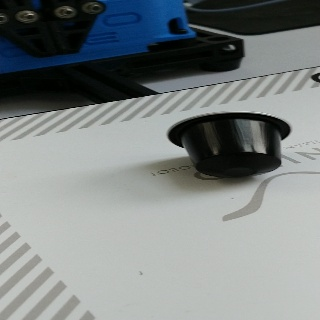capsule_10: (165, 109, 295, 179)
